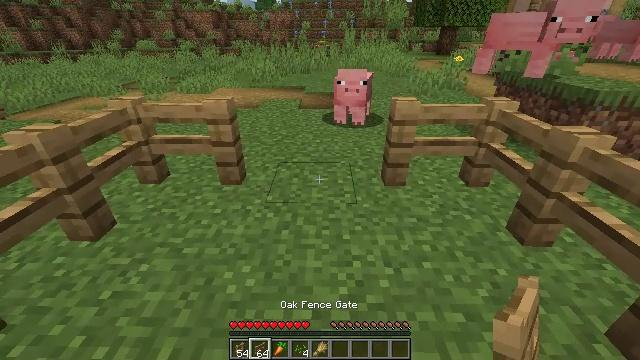pig: (471, 0, 602, 76), (334, 70, 371, 124)
